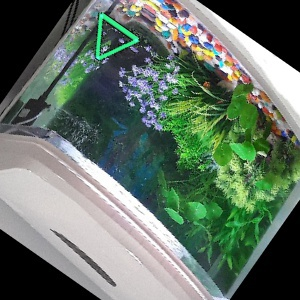triangle: (91, 10, 142, 62)
